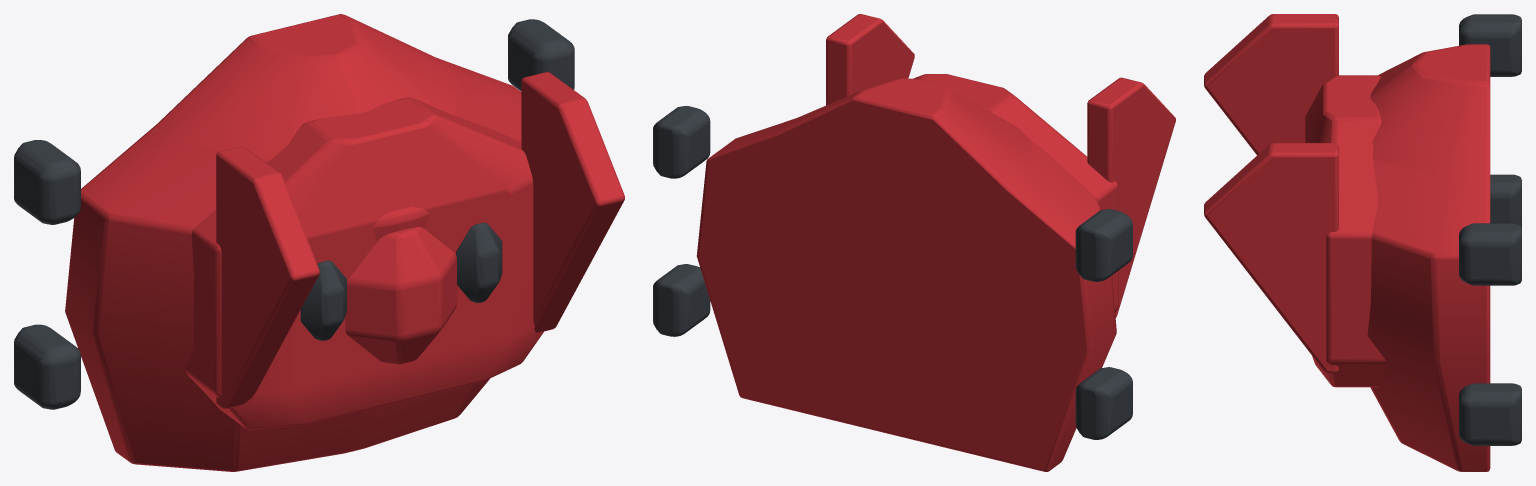
Rendered from ShoulderFront_Set09_Mantis.fbx.
The picture shows the model from 3 angles, left to right: view 1: azimuth 30°, elevation 25°; view 2: azimuth 150°, elevation 25°; view 3: azimuth 270°, elevation 25°; orthographic projection. The views are drawn at different scales.
Visible parts, largest first — view 1: ShoulderFront_Set09_Mantis; view 2: ShoulderFront_Set09_Mantis; view 3: ShoulderFront_Set09_Mantis.
Part boxes in pixels (x1,y1,x2,y2): ShoulderFront_Set09_Mantis: (14, 14, 624, 471); ShoulderFront_Set09_Mantis: (653, 14, 1175, 471); ShoulderFront_Set09_Mantis: (1204, 14, 1521, 471).
Bounding box in the file's own units: 0.51 × 0.35 × 0.3023.
